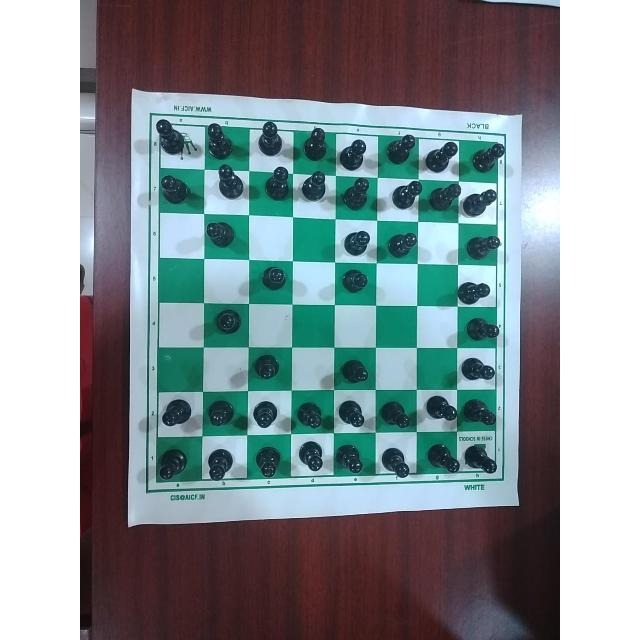black-pawn: (378, 436, 418, 480), (151, 110, 188, 157), (201, 117, 240, 161), (255, 115, 289, 161), (254, 438, 288, 484), (159, 169, 196, 210), (385, 124, 419, 168), (337, 392, 373, 433), (338, 349, 375, 388), (377, 391, 414, 430), (458, 349, 498, 385), (295, 393, 331, 433), (204, 213, 239, 254), (454, 271, 496, 305), (341, 171, 373, 215), (258, 260, 294, 299), (211, 306, 250, 342), (210, 161, 250, 196), (204, 444, 238, 485), (424, 138, 460, 176), (424, 386, 460, 424), (154, 442, 189, 481), (302, 119, 333, 163), (466, 438, 502, 475), (469, 138, 507, 173), (430, 180, 464, 219), (160, 392, 194, 431), (465, 390, 499, 429), (428, 436, 462, 475), (263, 160, 293, 204), (464, 310, 500, 346), (251, 348, 287, 384), (342, 133, 372, 175), (391, 175, 427, 210), (465, 183, 499, 219), (300, 163, 329, 205), (299, 436, 328, 477), (385, 225, 419, 259), (249, 396, 284, 429), (466, 230, 502, 262), (341, 262, 373, 298), (336, 440, 366, 478), (207, 395, 235, 431), (343, 225, 371, 260)
